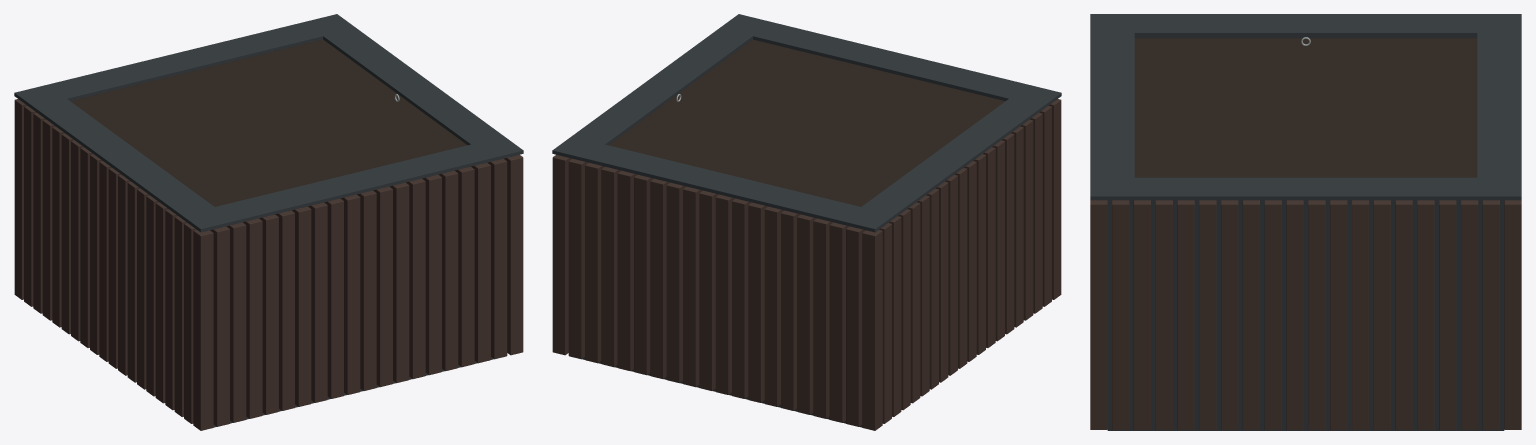
3 renders of one model, left to right at view 1: azimuth 30°, elevation 25°; view 2: azimuth 150°, elevation 25°; view 3: azimuth 270°, elevation 25°, orthographic. The views are drawn at different scales.
Parts seen in each view (by area): view 1: K1_Q950; view 2: K1_Q950; view 3: K1_Q950.
Part boxes in pixels (x1,y1,x2,y2): K1_Q950: (14, 14, 523, 430); K1_Q950: (552, 14, 1061, 430); K1_Q950: (1090, 14, 1521, 430).
Bounding box in the file's own units: 0.97 × 0.61 × 0.97.
